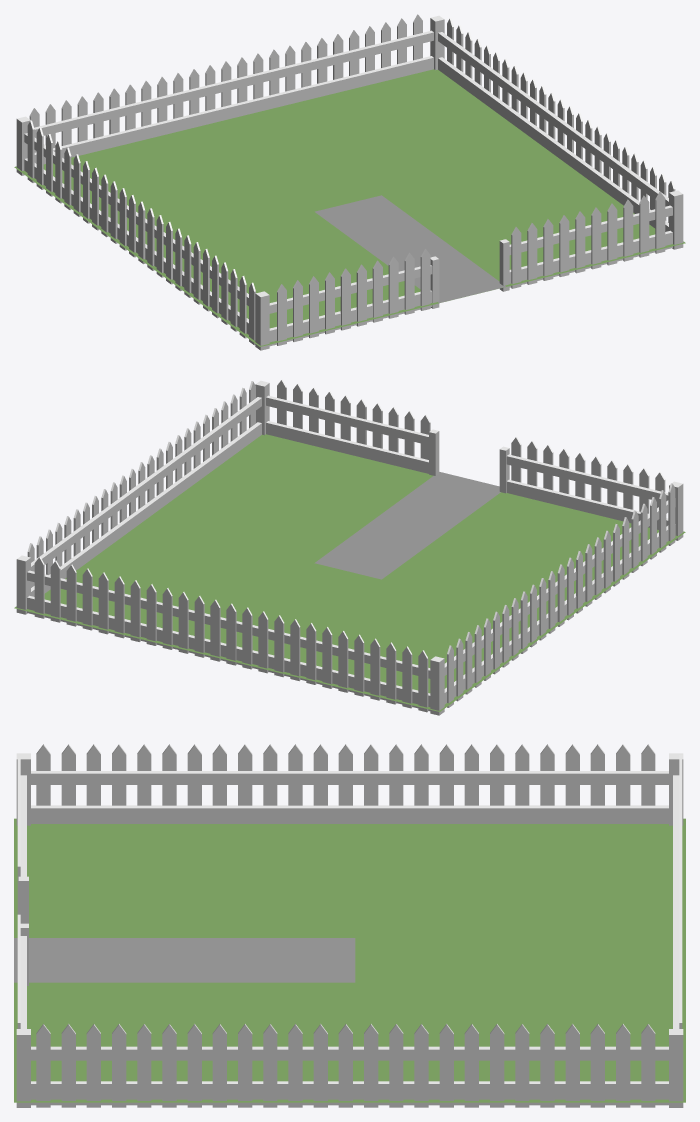
Rendered from tile_for_home_1x1_010.fbx.
3 views of the same model, one above another, from view 1: azimuth 30°, elevation 25°; view 2: azimuth 150°, elevation 25°; view 3: azimuth 270°, elevation 25° (orthographic). The views are drawn at different scales.
Parts seen in each view (by area): view 1: tile_for_home_1x1_010; view 2: tile_for_home_1x1_010; view 3: tile_for_home_1x1_010.
Boxes of the visible parts, x1,y1,x2,y2 form: tile_for_home_1x1_010: (14, 14, 685, 350); tile_for_home_1x1_010: (14, 379, 685, 715); tile_for_home_1x1_010: (14, 744, 685, 1107).
Size of the model in its own units: 800 by 110 by 800.
